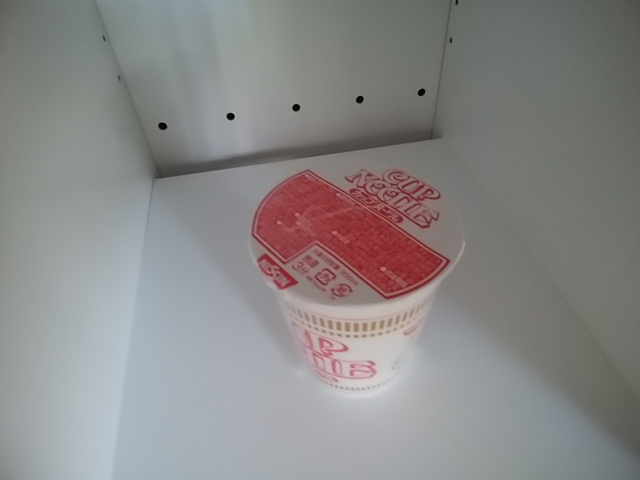cup-ramen: (247, 161, 471, 403)
